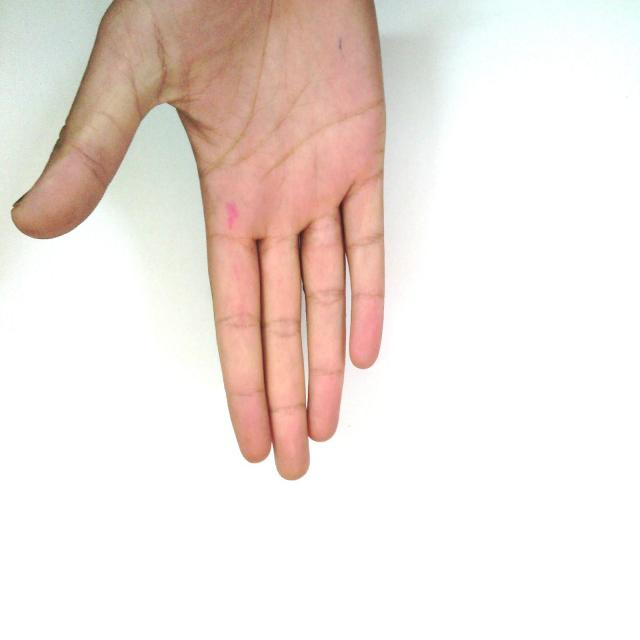others: (9, 2, 503, 483)
